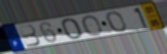1: (133, 6, 150, 30)
6: (39, 21, 59, 44)
B: (17, 23, 42, 48)
O: (82, 14, 105, 37), (61, 17, 83, 40), (106, 10, 128, 33)
